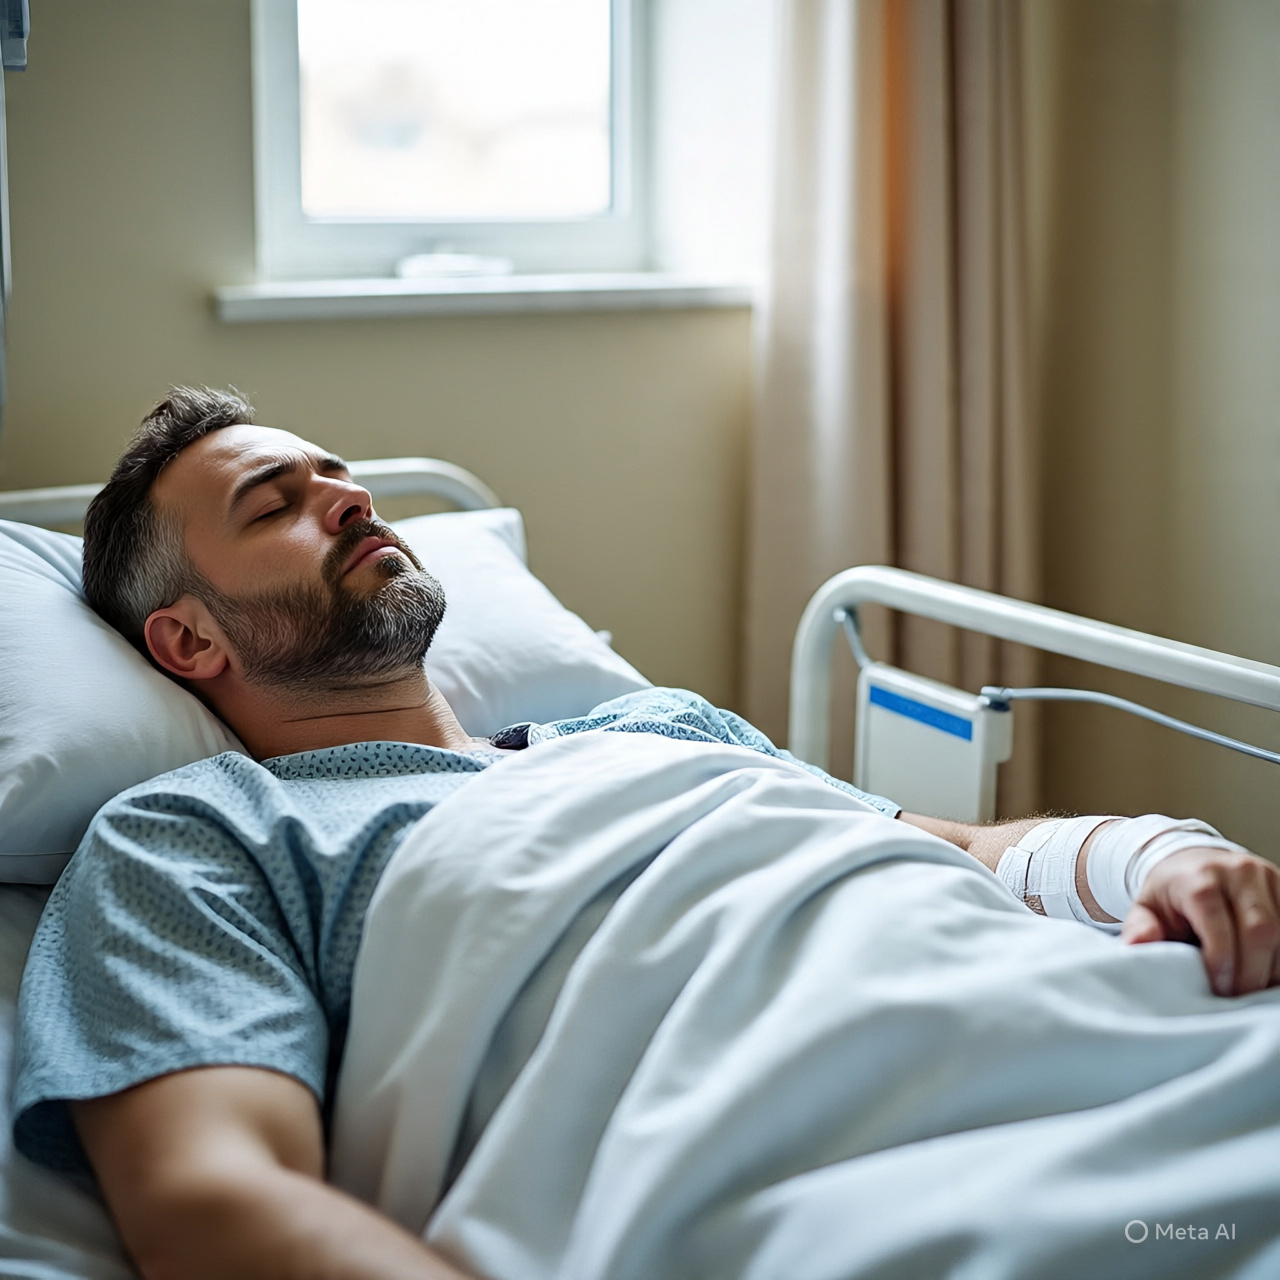sleeping: (16, 365, 1280, 1280)
